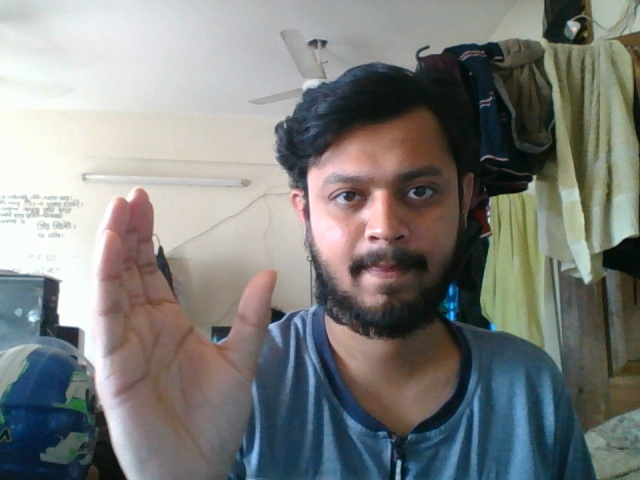o: (83, 175, 292, 479)
